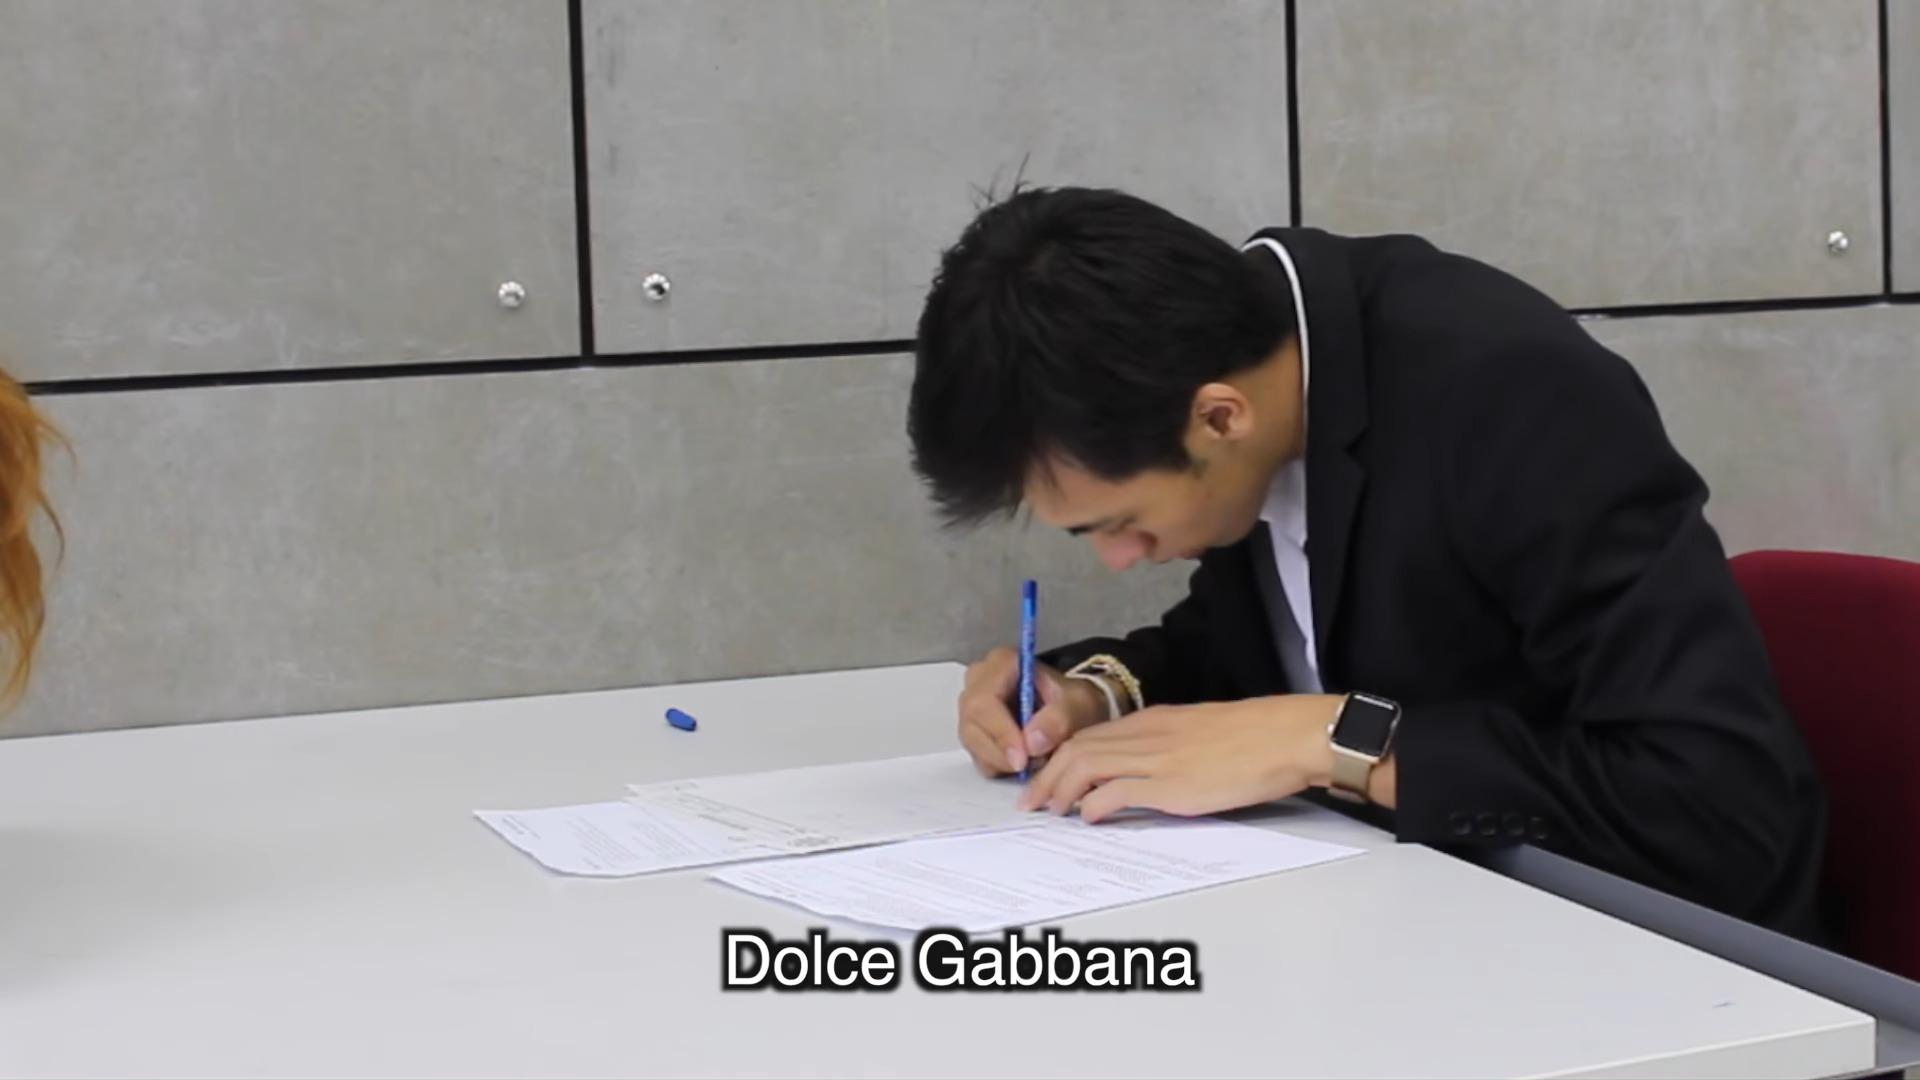good: (440, 166, 1830, 905)
